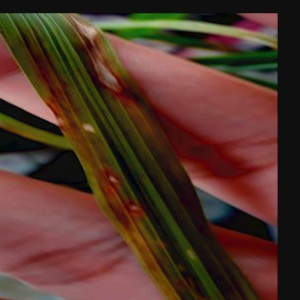Brown_Spot: (81, 49, 144, 97), (60, 14, 114, 57), (117, 197, 156, 222), (91, 169, 126, 195), (76, 115, 100, 138)
